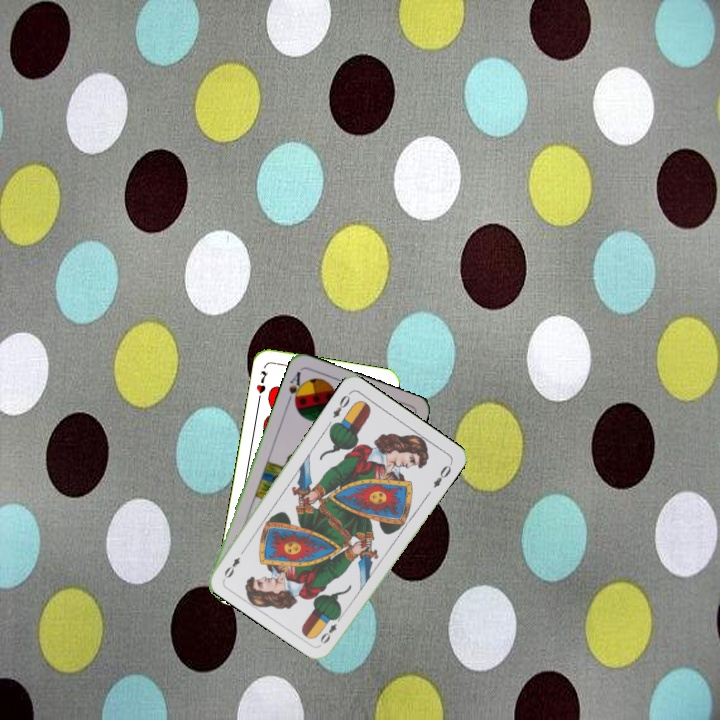EO: (316, 611, 345, 647), (329, 391, 353, 421)
H7: (252, 367, 271, 403)
SA: (283, 367, 307, 409)
